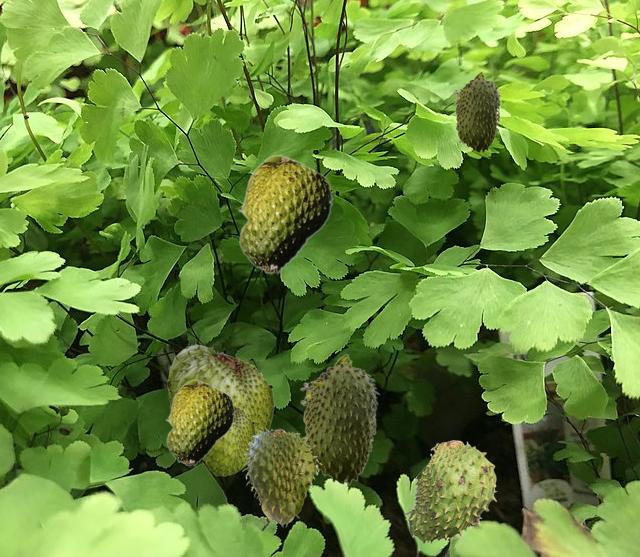guyabano: (237, 154, 332, 274), (300, 353, 379, 484), (167, 342, 273, 433), (404, 440, 496, 543), (242, 428, 321, 526), (165, 379, 234, 466), (453, 71, 501, 152), (203, 405, 254, 475)
